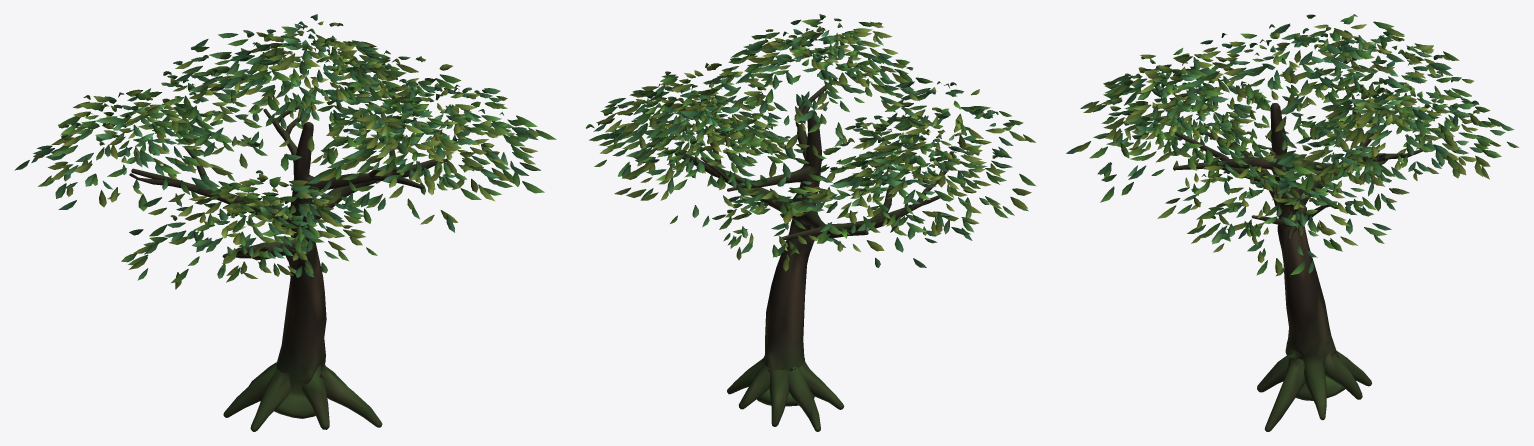
The model's file is tree_oak_b.glb.
3 views of the same model, side by side, from view 1: azimuth 30°, elevation 25°; view 2: azimuth 150°, elevation 25°; view 3: azimuth 270°, elevation 25° (orthographic). The views are drawn at different scales.
Visible parts, largest first — view 1: tree_oak_b; view 2: tree_oak_b; view 3: tree_oak_b.
Boxes of the visible parts, left/top/right/bottom form: tree_oak_b: left=14, top=14, right=556, bottom=431; tree_oak_b: left=586, top=14, right=1036, bottom=431; tree_oak_b: left=1066, top=14, right=1519, bottom=431.
Size of the model in its own units: 8.59 by 6.82 by 7.8.
